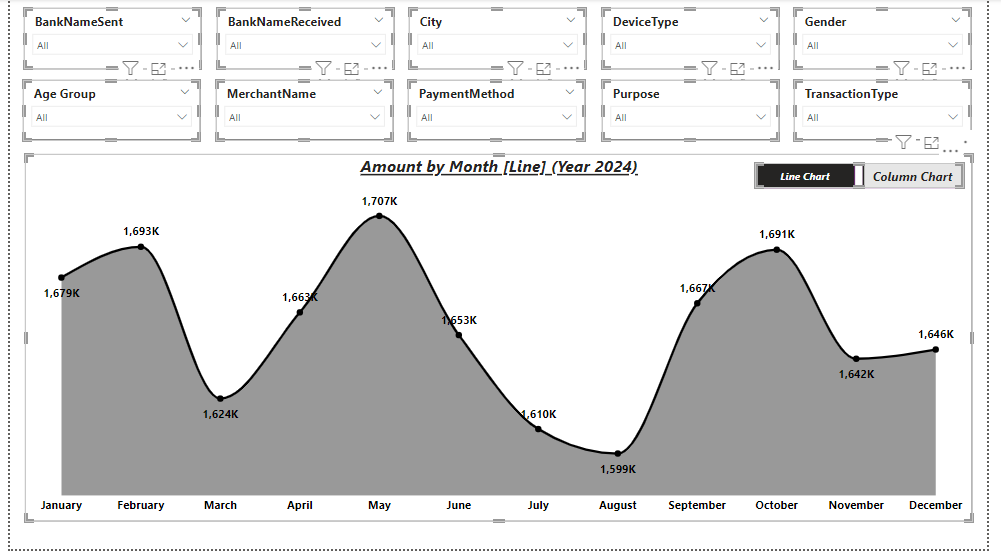

What the dashboard file says about the page in this screenshot:
{"tool":"powerbi","page":{"name":"Page 1","canvas":[1280,720],"ordinal":0},"visuals":[{"type":"slicer","fields":{"Values":["UPI Transaction.BankNameSent"]},"box":[18.6,11.4,232,80],"z":0},{"type":"slicer","fields":{"Values":["UPI Transaction.BankNameReceived"]},"box":[270.6,11.5,232,80],"z":1000},{"type":"slicer","fields":{"Values":["UPI Transaction.City"]},"box":[522.7,11.5,232,80],"z":2000},{"type":"slicer","fields":{"Values":["UPI Transaction.DeviceType"]},"box":[774.6,11.5,232,80],"z":3000},{"type":"slicer","fields":{"Values":["UPI Transaction.Gender"]},"box":[1026.6,11.5,232,80],"z":4000},{"type":"slicer","fields":{"Values":["UPI Transaction.Age Group"]},"box":[17.3,106.6,231.8,79.2],"z":5000},{"type":"slicer","fields":{"Values":["UPI Transaction.MerchantName"]},"box":[269.3,106.6,231.8,79.2],"z":6000},{"type":"slicer","fields":{"Values":["UPI Transaction.PaymentMethod"]},"box":[521.3,106.6,231.8,79.2],"z":7000},{"type":"slicer","fields":{"Values":["UPI Transaction.Purpose"]},"box":[774.7,106.6,231.8,79.2],"z":8000},{"type":"slicer","fields":{"Values":["UPI Transaction.TransactionType"]},"box":[1026.7,106.6,231.8,79.2],"z":9000},{"type":"lineChart","title":"Amount by Month [Line] (Year 2024)","fields":{"Y":["Sum(UPI Transaction.Amount)"],"Category":["UPI Transaction.TransactionDate.Variation.Date Hierarchy.Month"]},"box":[20.2,203,1239.8,481],"z":11000},{"type":"bookmarkNavigator","box":[974.9,214.6,273.6,33.1],"z":12500}]}

Visuals, with their boxes in screenshot pixels (x1, y1, x2, y2), scaled from the page's 1280x720 canvas onto the 1001x555 screenshot:
slicer - UPI Transaction.BankNameSent: bbox=[15, 9, 196, 70]
slicer - UPI Transaction.BankNameReceived: bbox=[212, 9, 393, 71]
slicer - UPI Transaction.City: bbox=[409, 9, 590, 71]
slicer - UPI Transaction.DeviceType: bbox=[606, 9, 787, 71]
slicer - UPI Transaction.Gender: bbox=[803, 9, 984, 71]
slicer - UPI Transaction.Age Group: bbox=[14, 82, 195, 143]
slicer - UPI Transaction.MerchantName: bbox=[211, 82, 392, 143]
slicer - UPI Transaction.PaymentMethod: bbox=[408, 82, 589, 143]
slicer - UPI Transaction.Purpose: bbox=[606, 82, 787, 143]
slicer - UPI Transaction.TransactionType: bbox=[803, 82, 984, 143]
"Amount by Month [Line] (Year 2024)" lineChart: bbox=[16, 156, 985, 527]
bookmarkNavigator: bbox=[762, 165, 976, 191]
